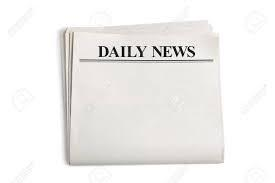Printing industry: (39, 16, 242, 183)
